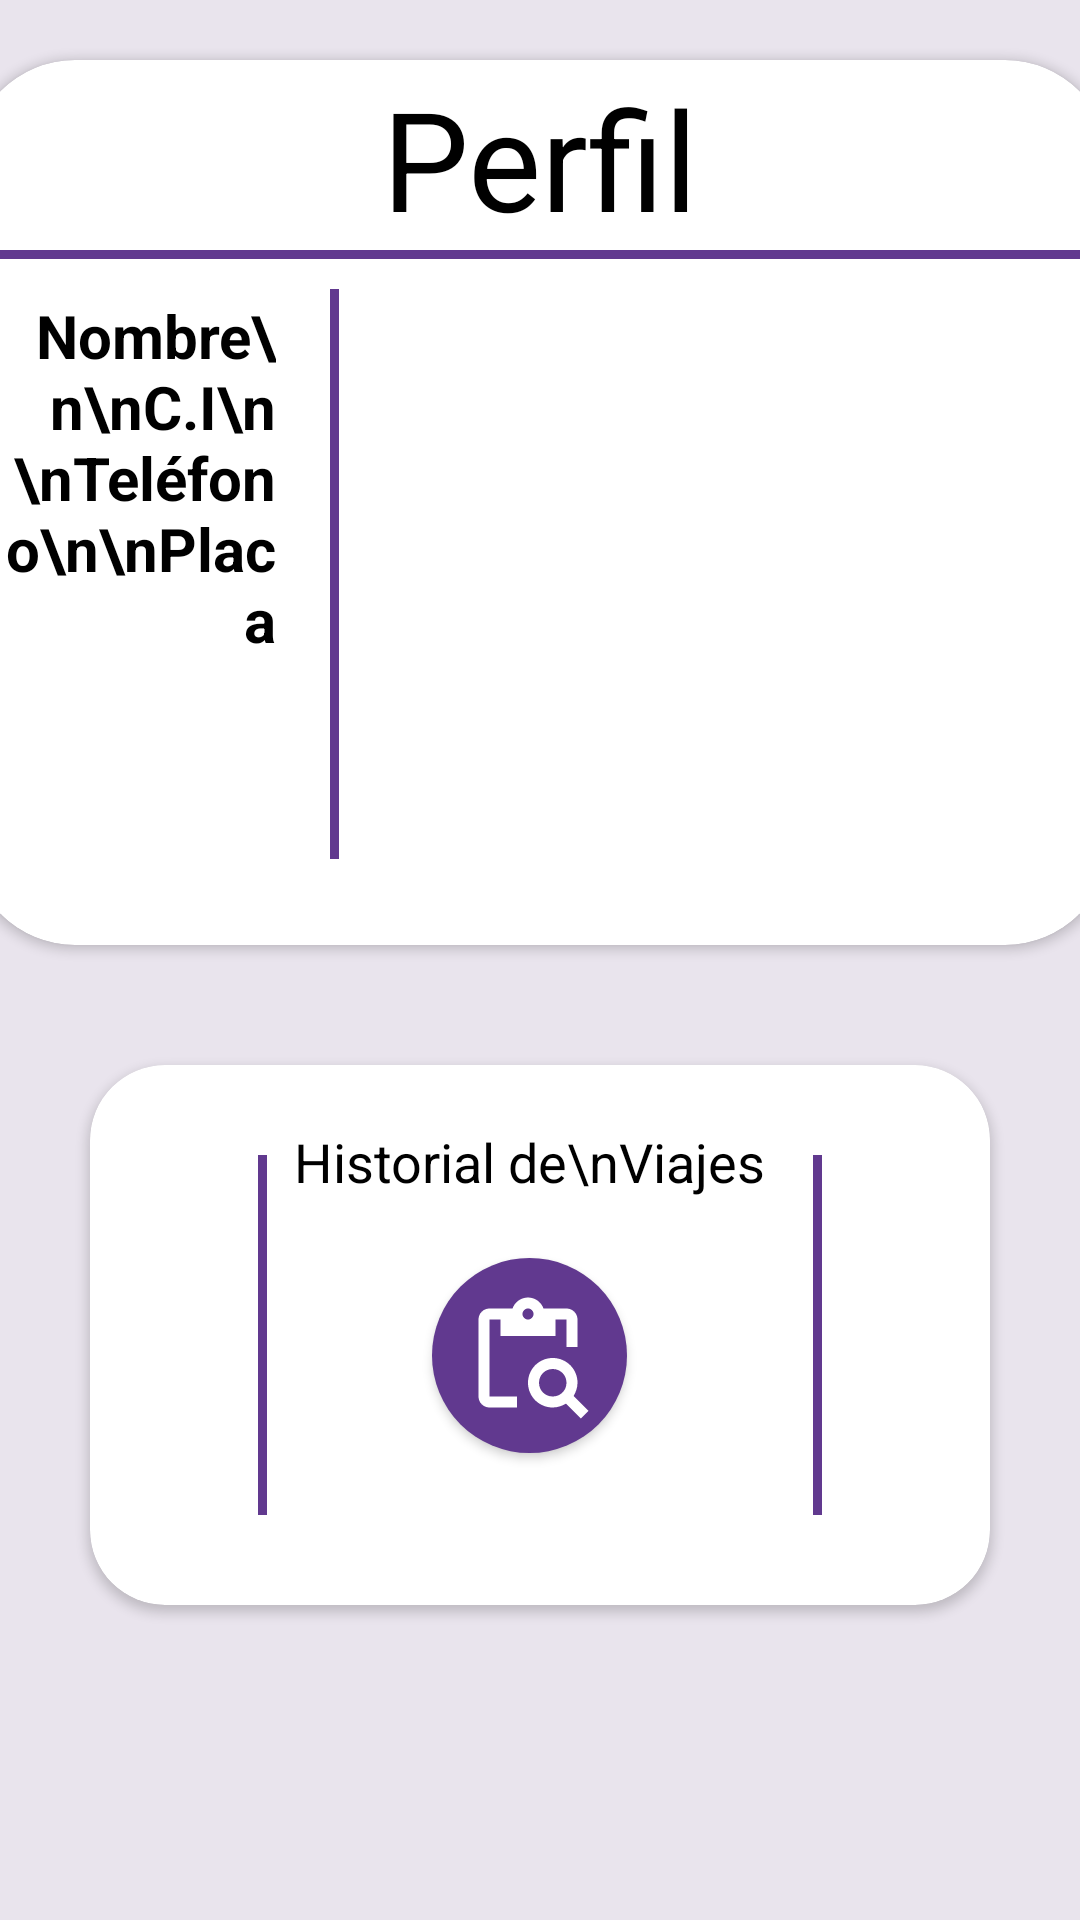

Screen size 1080*1920. Icon name, then its center in pixels as point (x, y):
Scanear: point (529, 1355)
